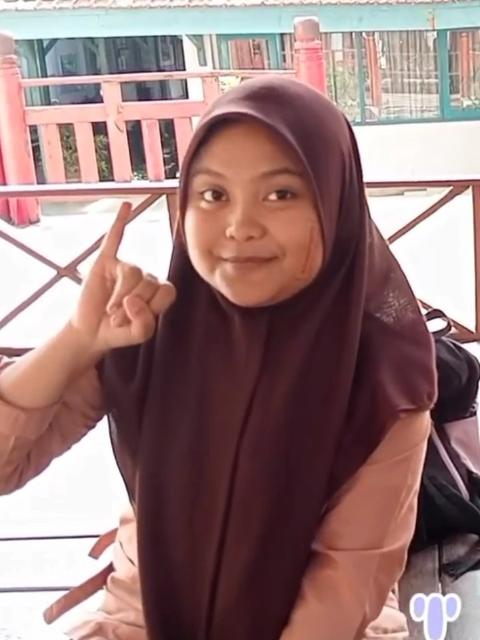I: (77, 200, 177, 360)
